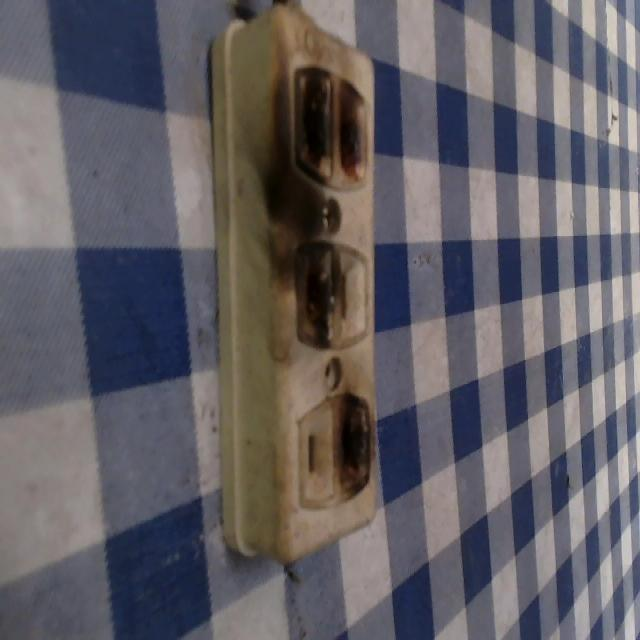-: (283, 38, 380, 194), (280, 228, 342, 353), (331, 383, 377, 505)
